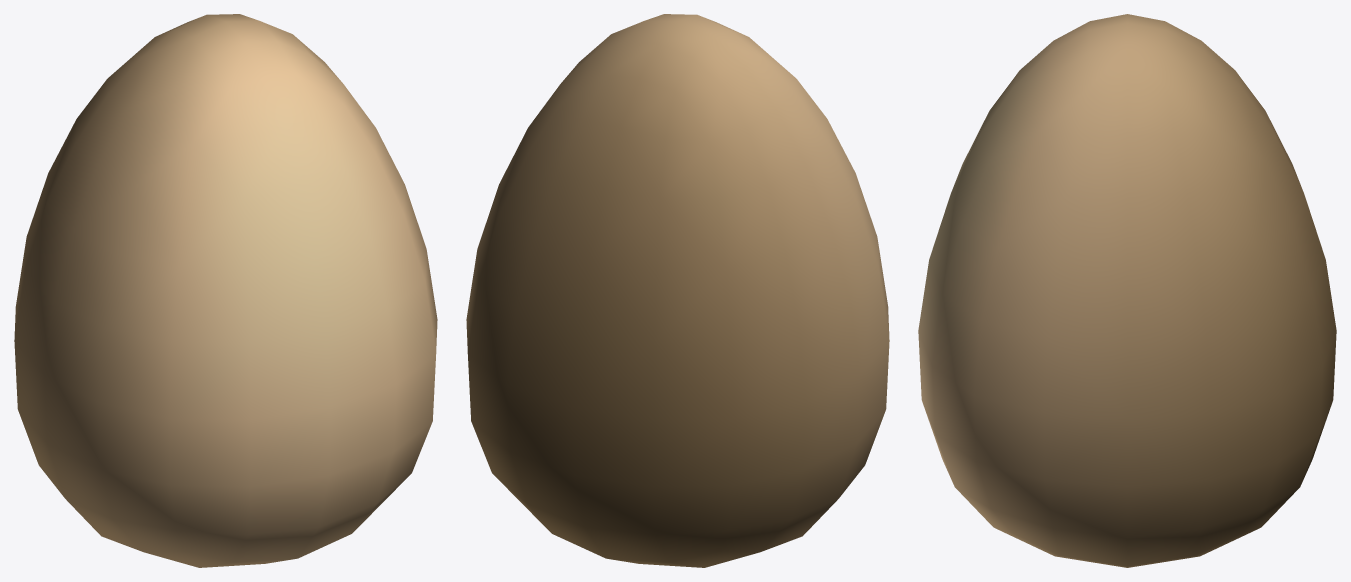
Rendered from Egg_Medium.fbx.
3 renders of one model, left to right at view 1: azimuth 30°, elevation 25°; view 2: azimuth 150°, elevation 25°; view 3: azimuth 270°, elevation 25°, orthographic.
Visible parts, largest first — view 1: Egg_Medium; view 2: Egg_Medium; view 3: Egg_Medium.
Boxes of the visible parts, <box> form: Egg_Medium: <box>14,14,437,567</box>; Egg_Medium: <box>466,14,889,567</box>; Egg_Medium: <box>918,14,1336,567</box>.
Bounding box in the file's own units: 22.92 × 31.69 × 22.92.
